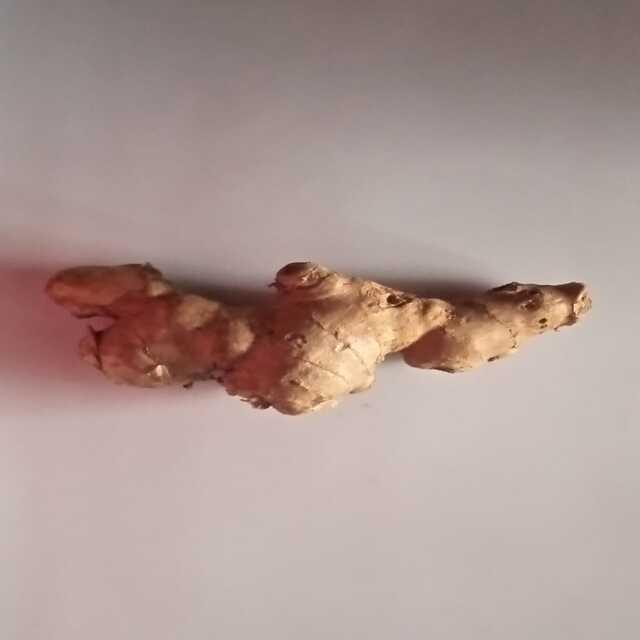ginger: (46, 240, 608, 430)
